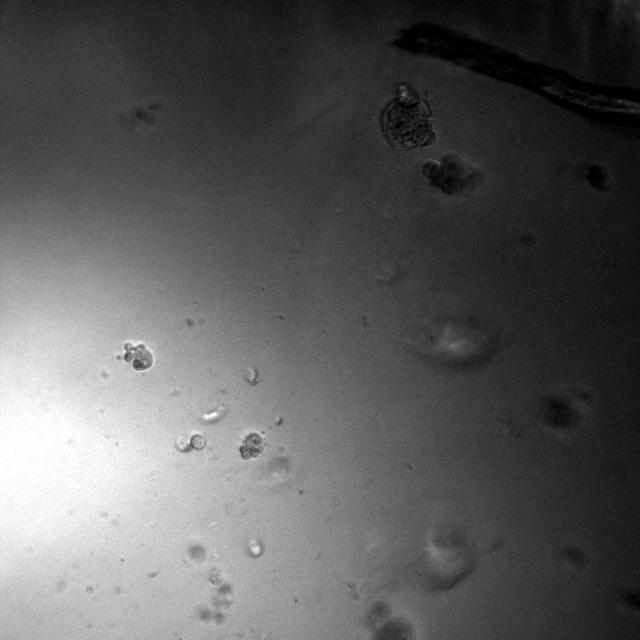organoid: (380, 83, 436, 150), (422, 153, 484, 197), (124, 343, 154, 371), (239, 433, 263, 459), (176, 432, 205, 452)
